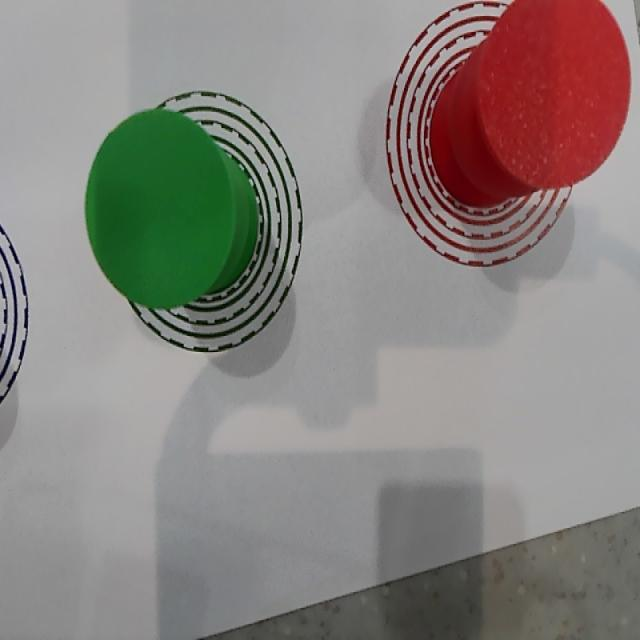g: (86, 108, 236, 309)
